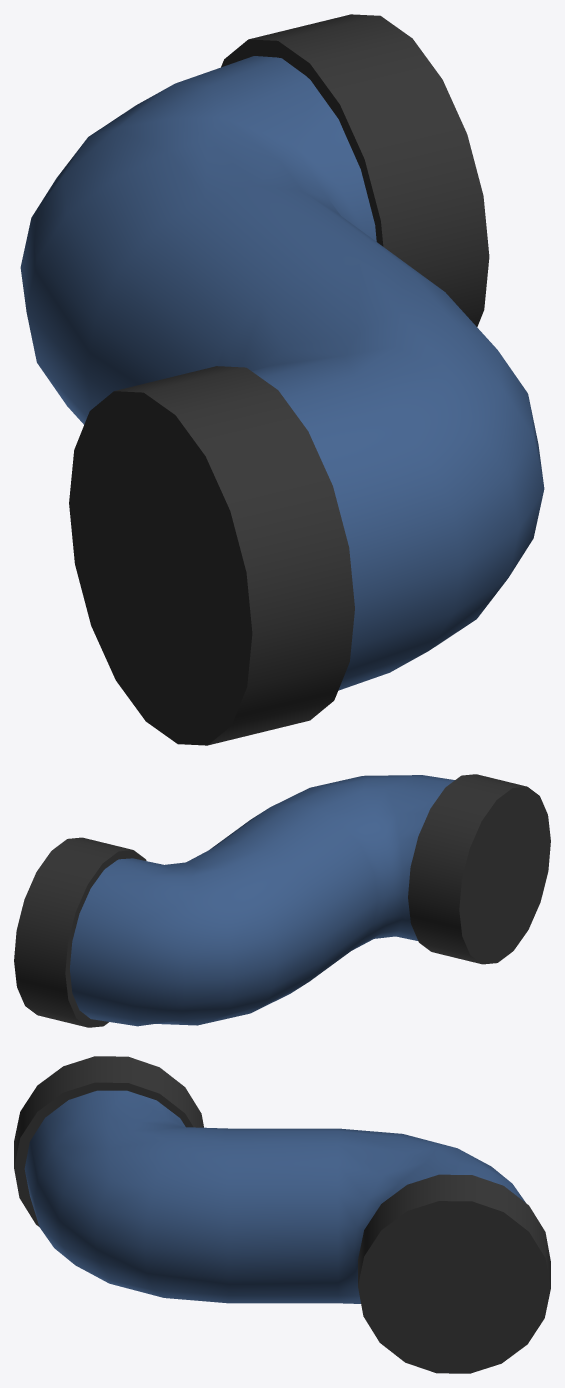
The model's file is BlueMetalDecorationLargeSbend2.fbx.
3 views of the same model, one above another, from view 1: azimuth 30°, elevation 25°; view 2: azimuth 150°, elevation 25°; view 3: azimuth 270°, elevation 25° (orthographic). The views are drawn at different scales.
Visible parts, largest first — view 1: BlueMetalDecorationLargeSbend3; view 2: BlueMetalDecorationLargeSbend3; view 3: BlueMetalDecorationLargeSbend3.
Boxes of the visible parts, left/top/right/bottom form: BlueMetalDecorationLargeSbend3: left=20, top=14, right=544, bottom=745; BlueMetalDecorationLargeSbend3: left=14, top=774, right=550, bottom=1027; BlueMetalDecorationLargeSbend3: left=14, top=1056, right=550, bottom=1373.
Size of the model in its own units: 293 by 163 by 459.
